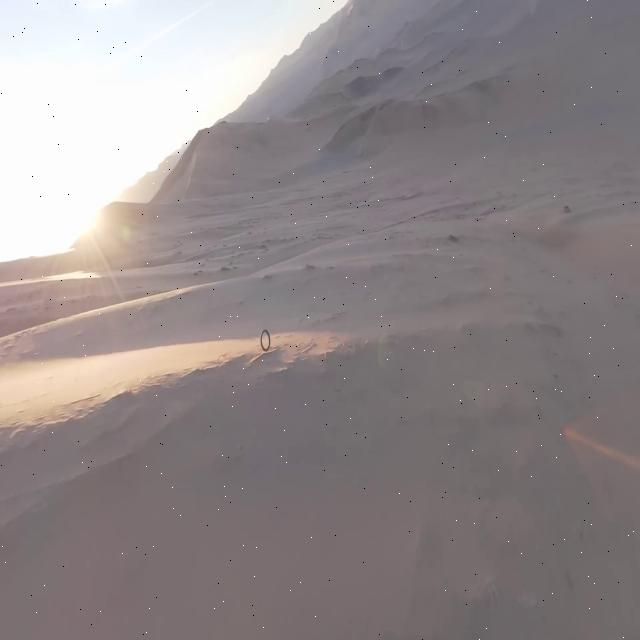Tire: (260, 329, 271, 351)
